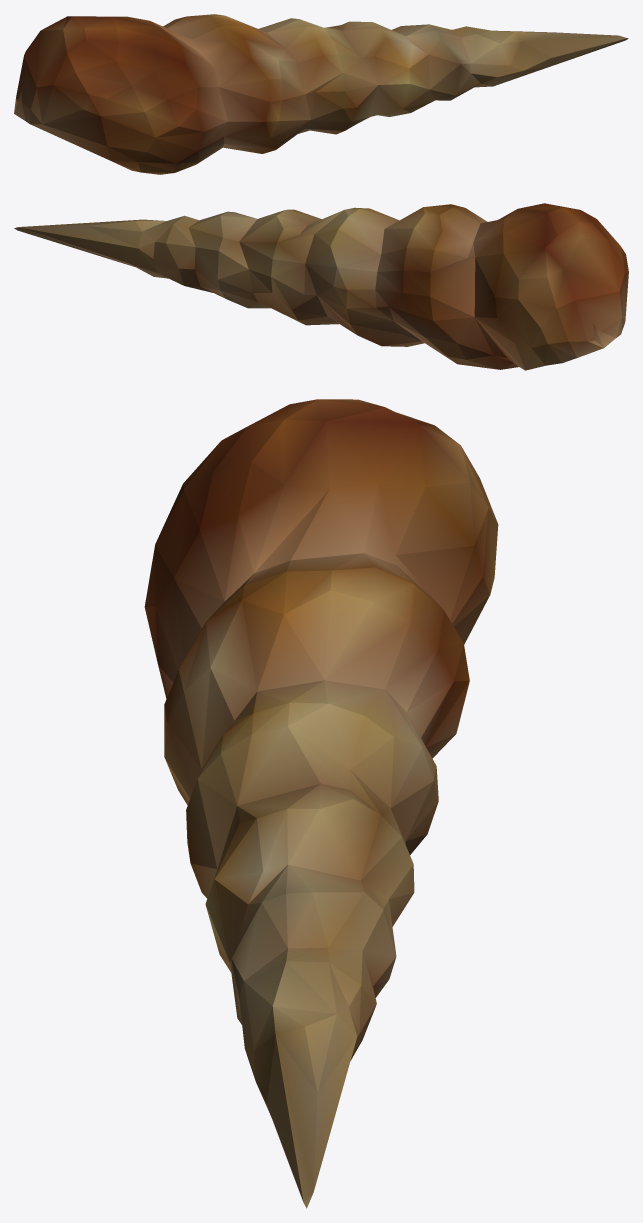
File: shell-turret.gltf
The picture shows the model from 3 angles, top to bottom: view 1: azimuth 30°, elevation 25°; view 2: azimuth 150°, elevation 25°; view 3: azimuth 270°, elevation 25°; orthographic projection. The views are drawn at different scales.
Visible parts, largest first — view 1: Object_4; view 2: Object_4; view 3: Object_4.
Boxes of the visible parts, x1=… form: Object_4: x1=14, y1=14, x2=628, y2=174; Object_4: x1=14, y1=203, x2=628, y2=370; Object_4: x1=144, y1=399, x2=498, y2=1208.
Bounding box in the file's own units: 3.83 × 1 × 0.9968.
